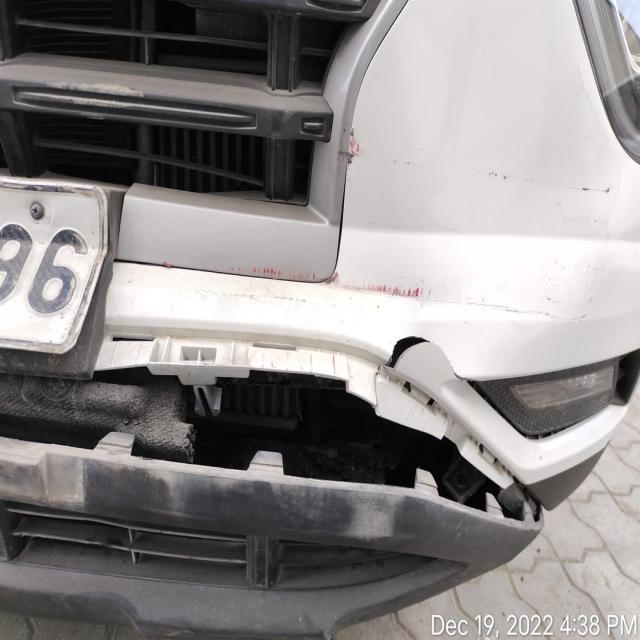damage: (102, 312, 528, 470), (339, 474, 544, 576), (333, 267, 529, 328), (473, 145, 621, 209)
